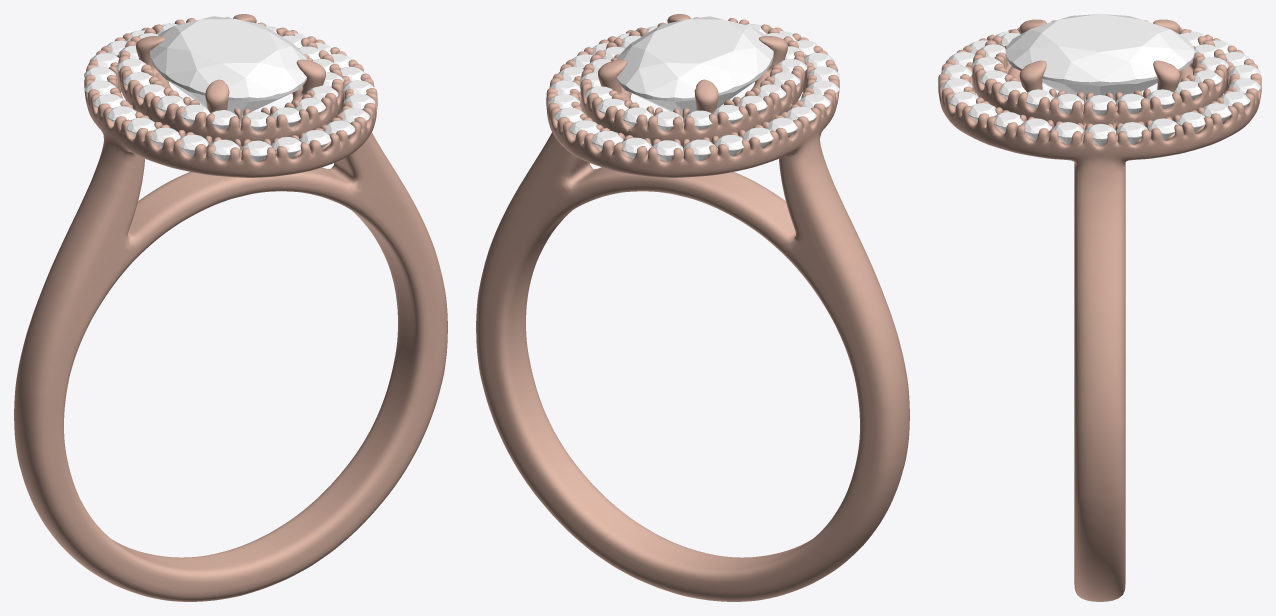
File: prd_en_princess.glb
3 views of the same model, side by side, from view 1: azimuth 30°, elevation 25°; view 2: azimuth 150°, elevation 25°; view 3: azimuth 270°, elevation 25° (orthographic).
Visible parts, largest first — view 1: ring, diamonds; view 2: ring, diamonds; view 3: ring, diamonds.
Boxes of the visible parts, x1=… form: ring: x1=14, y1=14, x2=447, y2=601; diamonds: x1=84, y1=16, x2=375, y2=161; ring: x1=476, y1=14, x2=909, y2=601; diamonds: x1=548, y1=16, x2=839, y2=161; ring: x1=938, y1=19, x2=1261, y2=601; diamonds: x1=941, y1=14, x2=1260, y2=145.
Size of the model in its own units: 9.92 by 12.39 by 6.66.
